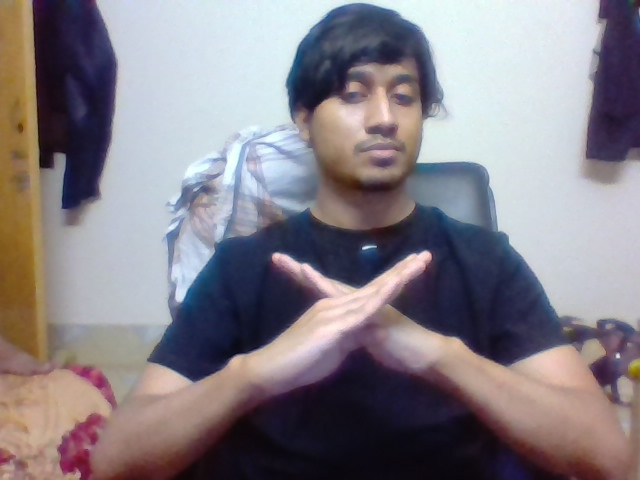X: (240, 240, 465, 383)
